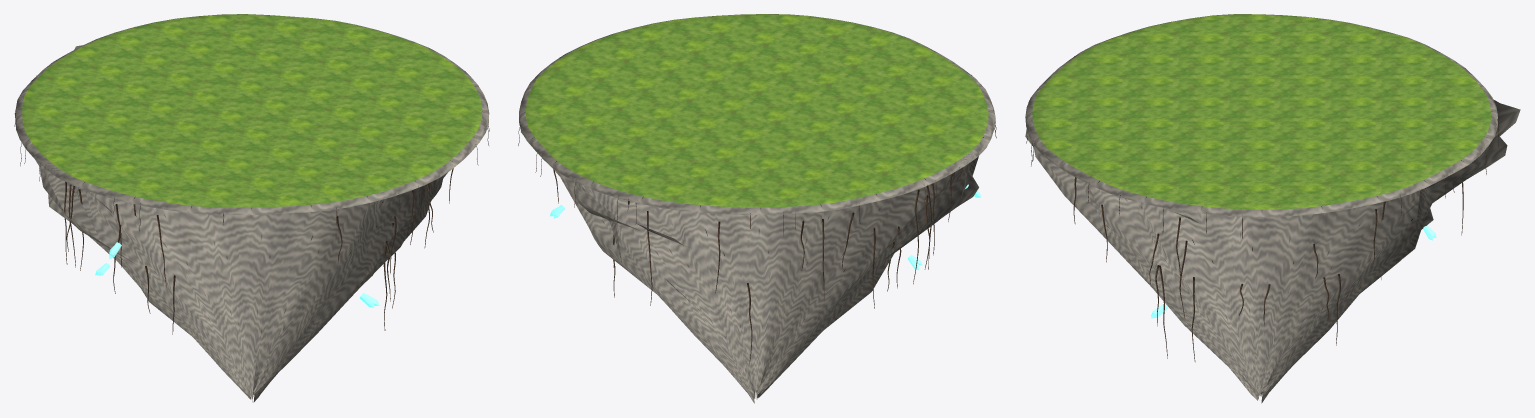
Rendered from sky_platform_huge.glb.
3 views of the same model, side by side, from view 1: azimuth 30°, elevation 25°; view 2: azimuth 150°, elevation 25°; view 3: azimuth 270°, elevation 25° (orthographic).
Parts seen in each view (by area): view 1: IslandTop-col, IslandRock, IslandRoots; view 2: IslandTop-col, IslandRock, IslandRoots; view 3: IslandTop-col, IslandRock, IslandRoots.
Part boxes in pixels (<box>): IslandTop-col: <box>15,14,489,214</box>; IslandRock: <box>35,45,447,402</box>; IslandRoots: <box>14,63,489,334</box>; IslandTop-col: <box>519,14,995,215</box>; IslandRock: <box>521,132,978,403</box>; IslandRoots: <box>518,75,996,364</box>; IslandTop-col: <box>1025,14,1497,216</box>; IslandRock: <box>1025,99,1520,403</box>; IslandRoots: <box>1026,56,1499,362</box>.
Bounding box in the file's own units: 78.6 × 52.9 × 81.44.
4 materials, 3 textured.
